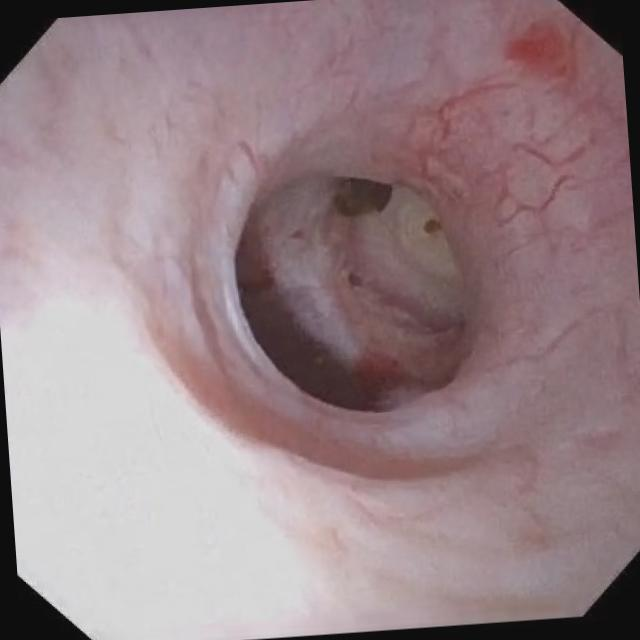stone-new: (333, 179, 391, 217), (424, 220, 440, 234), (349, 275, 361, 287)
